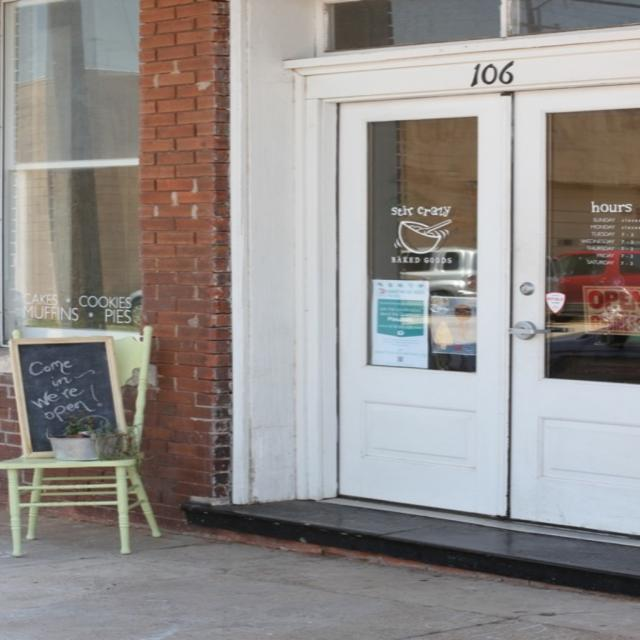door_local: (283, 27, 640, 537)
